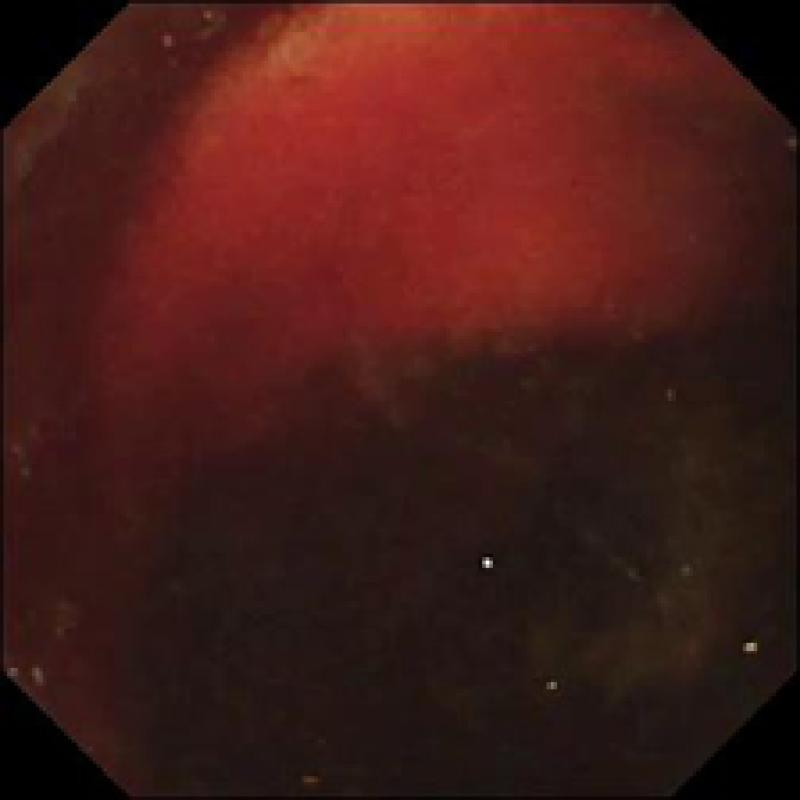bleeding: (111, 0, 782, 411)
